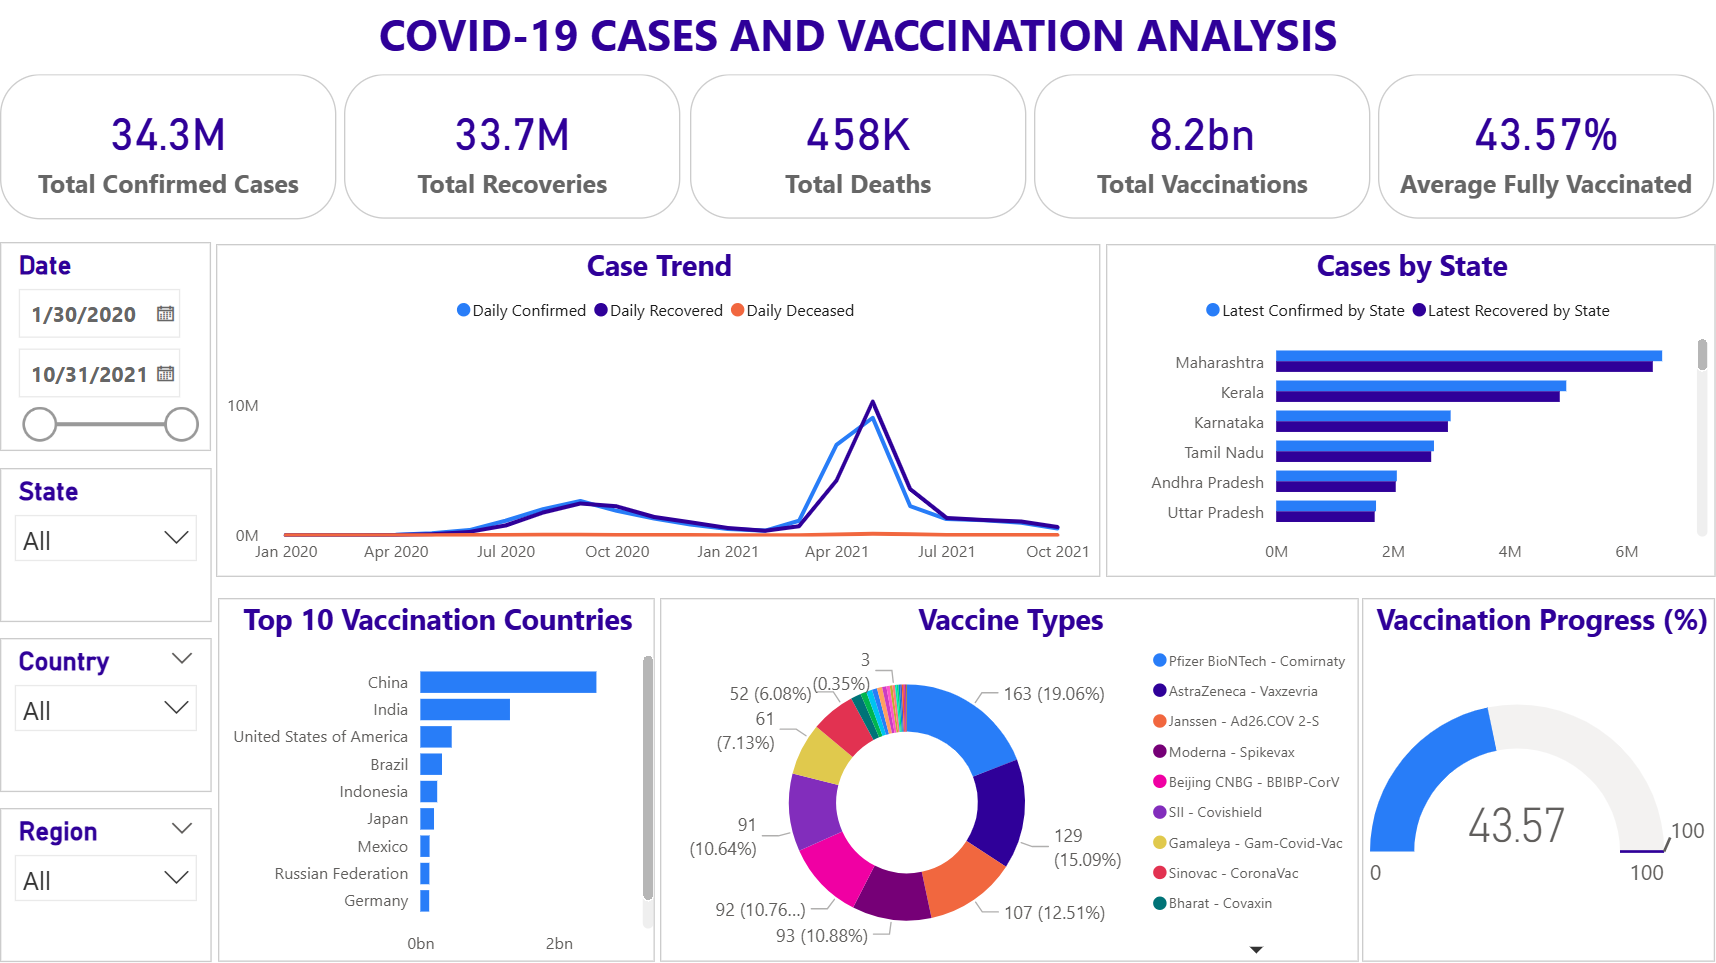

The page's visual inventory and layout, read from the dashboard file:
{"tool":"powerbi","page":{"name":"Page 1","canvas":[1280,720],"ordinal":0},"visuals":[{"type":"card","fields":{"Values":["raw_data_Indian_states.Total Confirmed Cases"]},"box":[0,57,251,108.3],"z":0},{"type":"card","fields":{"Values":["raw_data_Indian_states.Total Recoveries"]},"box":[257.2,57.2,251,108],"z":1000},{"type":"card","fields":{"Values":["raw_data_Indian_states.Total Deaths"]},"box":[514.4,57.2,251,108],"z":2000},{"type":"card","fields":{"Values":["Sum(vaccination-data.TOTAL_VACCINATIONS)"]},"box":[771.6,57.2,251.1,108.1],"z":3000},{"type":"card","fields":{"Values":["vaccination-data.Fully Vaccinated Display"]},"box":[1028.9,57.2,251.1,108.1],"z":4000},{"type":"lineChart","title":"Case Trend","fields":{"Category":["case_time_series - case_time_series.Date.Variation.Date Hierarchy.Year","case_time_series - case_time_series.Date.Variation.Date Hierarchy.Month"],"Y":["Sum(case_time_series - case_time_series.Daily_Confirmed)","Sum(case_time_series - case_time_series.Daily_Recovered)","Sum(case_time_series - case_time_series.Daily_Deceased)"]},"box":[161.5,183.3,660,248.3],"z":5000},{"type":"clusteredBarChart","title":"Cases by State","fields":{"Category":["raw_data_Indian_states.State"],"Y":["raw_data_Indian_states.Latest Confirmed by State","raw_data_Indian_states.Latest Recovered by State"]},"box":[825,183.3,455,248.3],"z":6000},{"type":"clusteredBarChart","title":"Top 10 Vaccination Countries","fields":{"Category":["vaccination-data.COUNTRY"],"Y":["Sum(vaccination-data.TOTAL_VACCINATIONS)"]},"box":[162.2,448.3,326,271.7],"z":7000},{"type":"donutChart","title":"Vaccine Types","fields":{"Category":["Vaccine_Types.VACCINES_USED"],"Y":["CountNonNull(Vaccine_Types.VACCINES_USED)"]},"box":[492.4,448.3,521.7,271.7],"z":8000},{"type":"gauge","title":"Vaccination Progress (%)","fields":{"Y":["vaccination-data.Fully Vaccinated %"],"MaxValue":["vaccination-data.Gauge Maximum"],"TargetValue":["vaccination-data.Vaccination Target"],"MinValue":["vaccination-data.Gauge Minimum"]},"box":[1016.7,448.3,263.3,271.7],"z":9000},{"type":"slicer","fields":{"Values":["case_time_series - case_time_series.Date_YMD"]},"box":[0,182.8,157.4,155.8],"z":10000},{"type":"slicer","fields":{"Values":["raw_data_Indian_states.State"]},"box":[0,350.6,158,115],"z":11000},{"type":"slicer","fields":{"Values":["vaccination-data.COUNTRY"]},"box":[0,477.8,158,115],"z":12000},{"type":"slicer","fields":{"Values":["vaccination-data.WHO_REGION"]},"box":[0,605,158,115],"z":13000},{"type":"textbox","box":[1.1,0,1277.9,57.2],"z":14000}]}

Visuals, with their boxes in screenshot pixels (x1, y1, x2, y2), scaled from the page's 1280x720 canvas onto the 1716x963 screenshot:
card - raw_data_Indian_states.Total Confirmed Cases: 0,76,336,221
card - raw_data_Indian_states.Total Recoveries: 345,77,681,221
card - raw_data_Indian_states.Total Deaths: 690,77,1026,221
card - Sum(vaccination-data.TOTAL_VACCINATIONS): 1034,77,1371,221
card - vaccination-data.Fully Vaccinated Display: 1379,77,1715,221
"Case Trend" lineChart: 217,245,1101,577
"Cases by State" clusteredBarChart: 1106,245,1715,577
"Top 10 Vaccination Countries" clusteredBarChart: 217,600,654,962
"Vaccine Types" donutChart: 660,600,1360,962
"Vaccination Progress (%)" gauge: 1363,600,1715,962
slicer - case_time_series - case_time_series.Date_YMD: 0,244,211,453
slicer - raw_data_Indian_states.State: 0,469,212,623
slicer - vaccination-data.COUNTRY: 0,639,212,793
slicer - vaccination-data.WHO_REGION: 0,809,212,962
textbox: 1,0,1715,77
